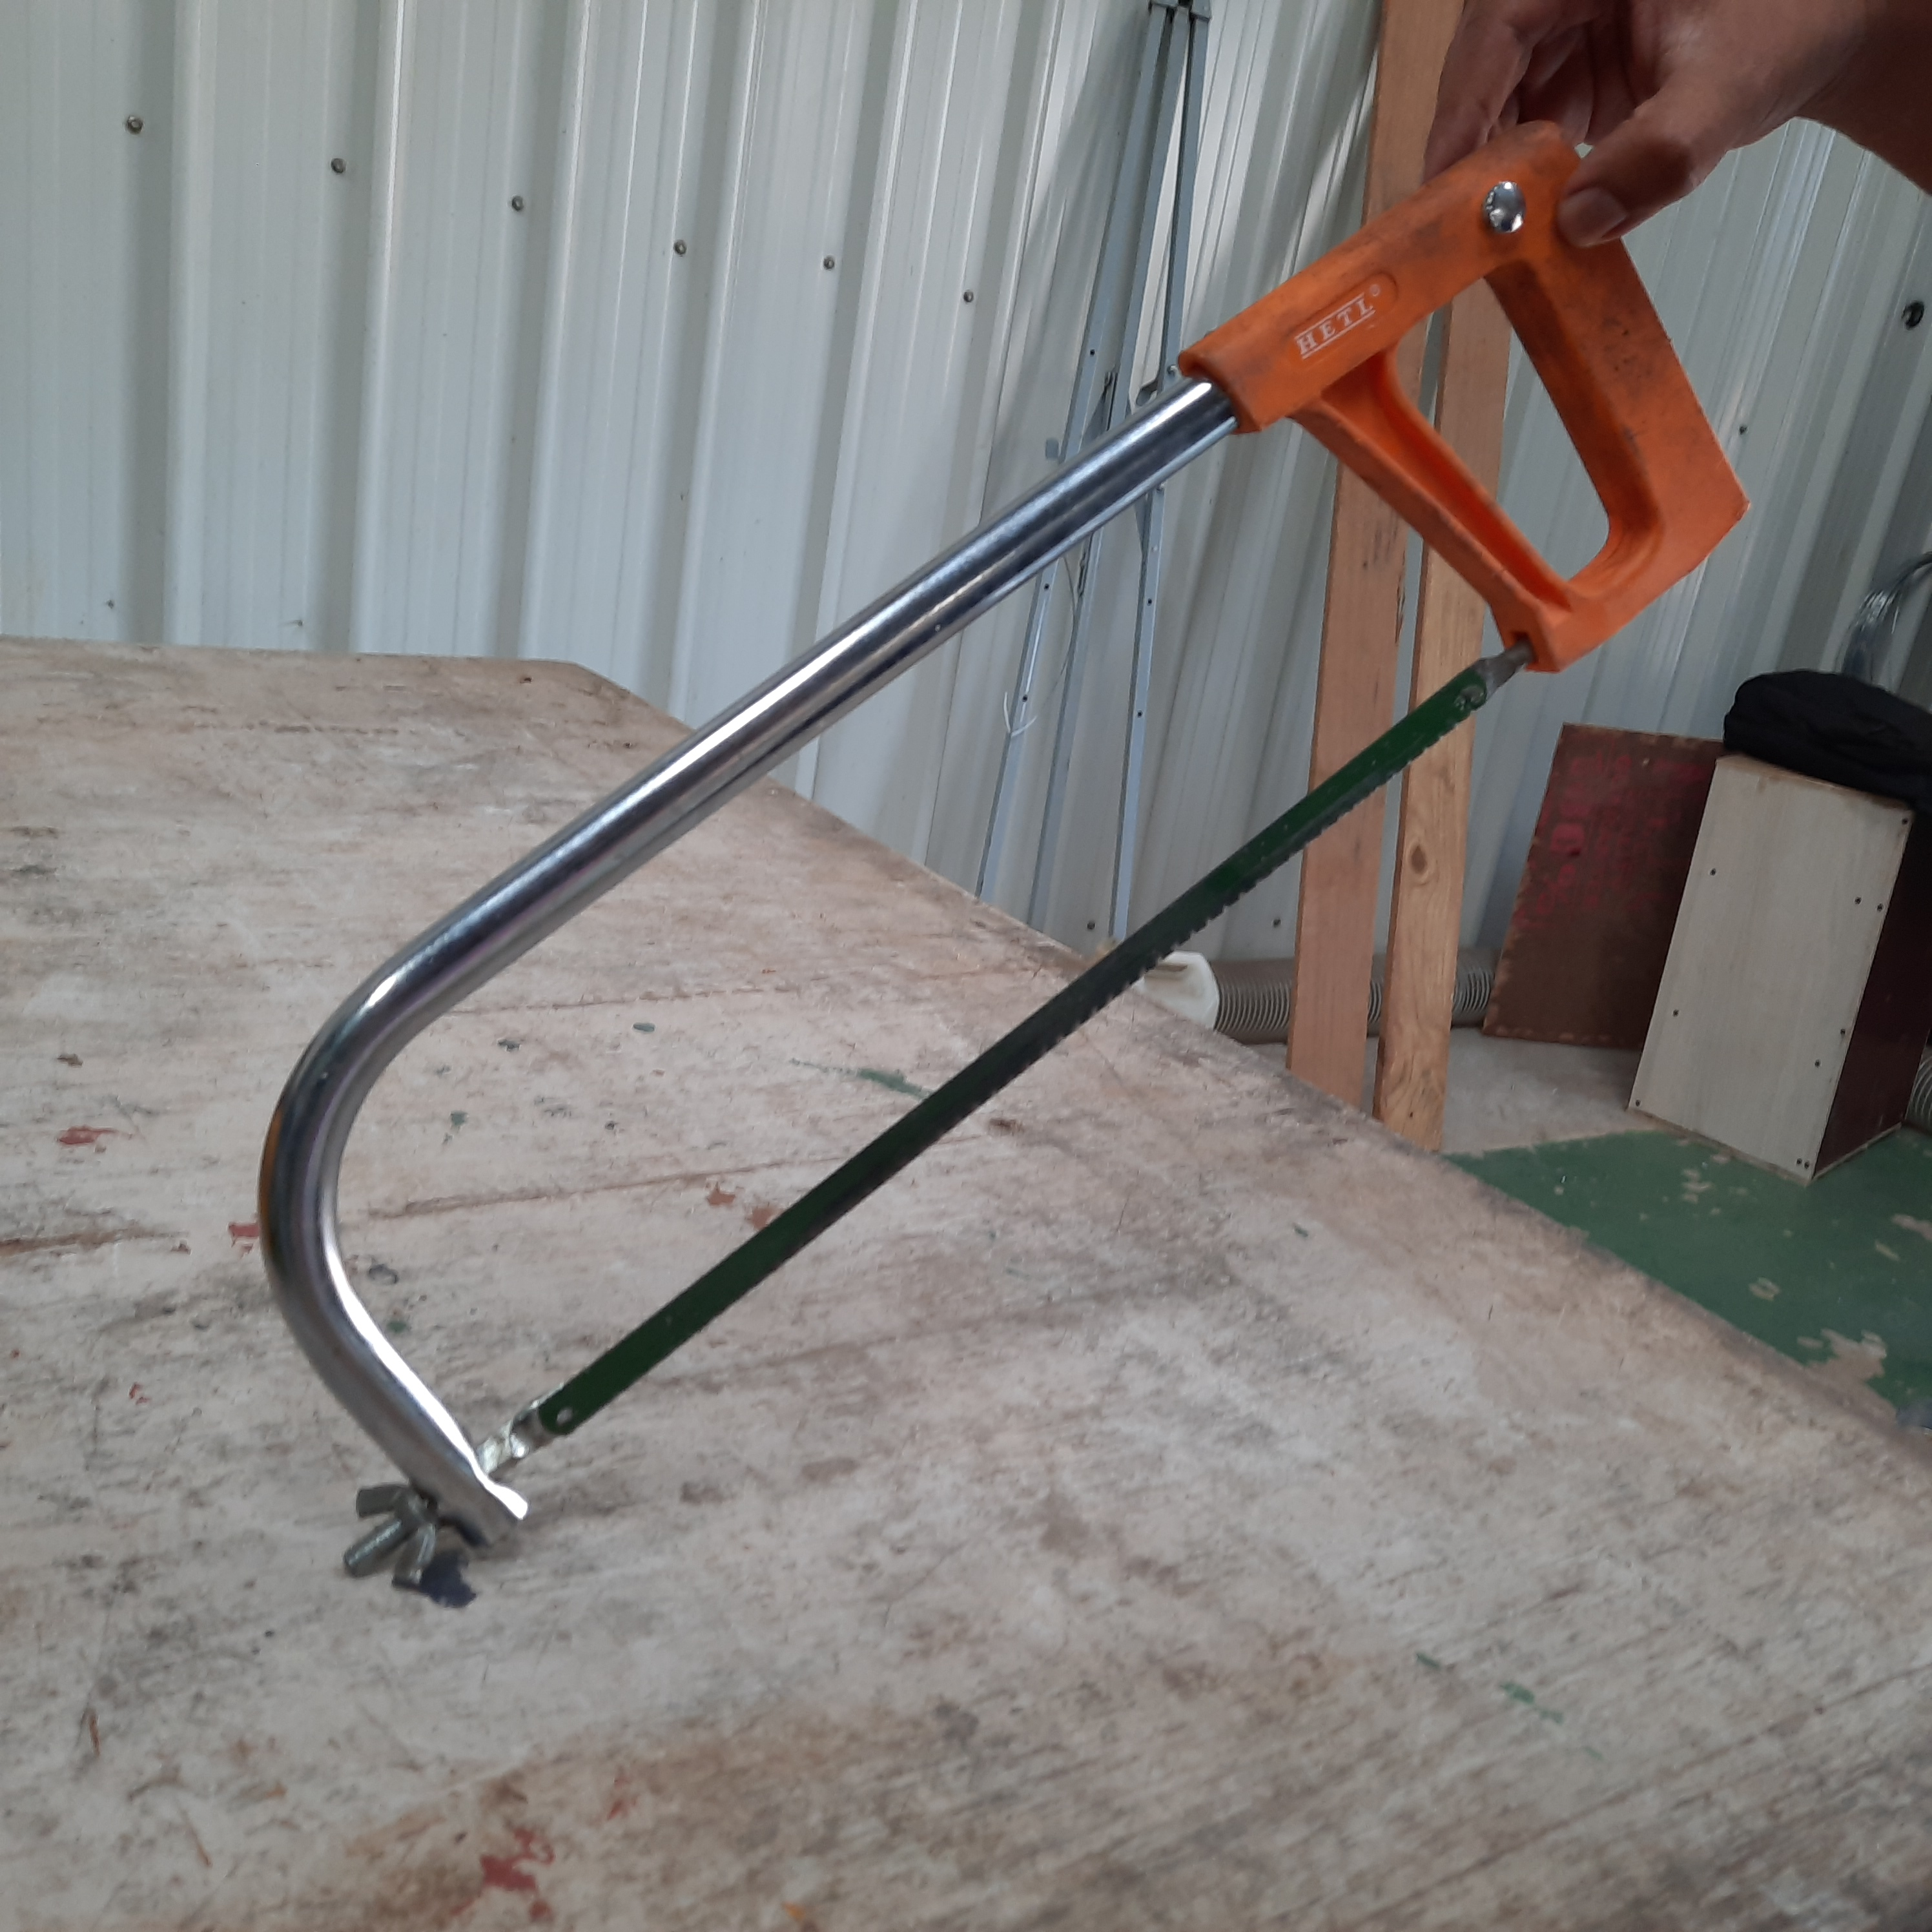Hexaframe: (221, 127, 1798, 1700)
